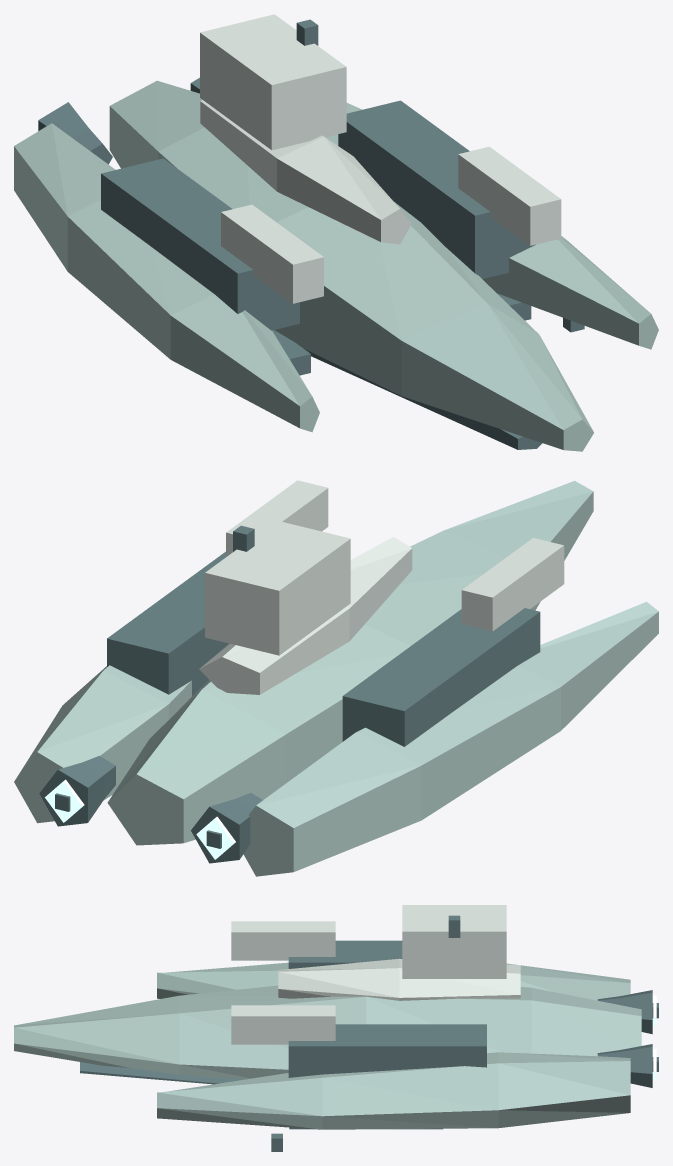
3 views of the same model, one above another, from view 1: azimuth 30°, elevation 25°; view 2: azimuth 150°, elevation 25°; view 3: azimuth 270°, elevation 25° (orthographic). The views are drawn at different scales.
Bounding box in the file's own units: 12.74 × 7.78 × 24.75.
